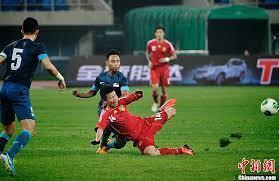Fall-Detected: (92, 84, 192, 158)
